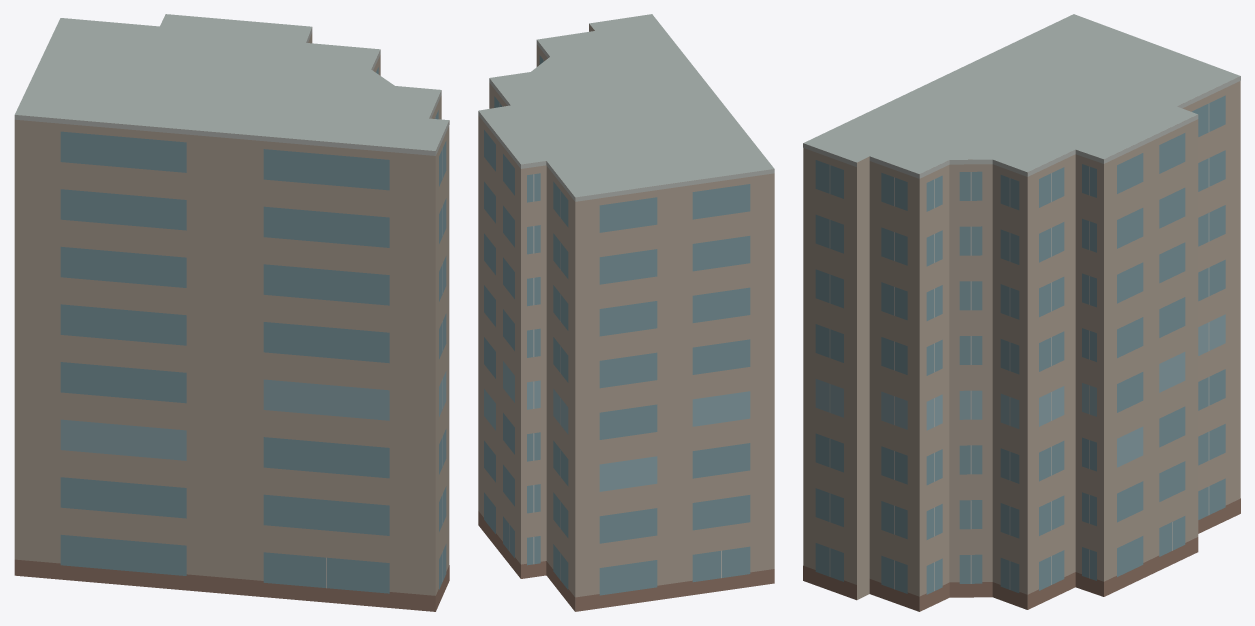
Rendered from survey-upis-32961090.glb.
The picture shows the model from 3 angles, left to right: view 1: azimuth 30°, elevation 25°; view 2: azimuth 150°, elevation 25°; view 3: azimuth 270°, elevation 25°; orthographic projection. The views are drawn at different scales.
Visible parts, largest first — view 1: survey-upis-32961090.tmp; view 2: survey-upis-32961090.tmp; view 3: survey-upis-32961090.tmp.
Boxes of the visible parts, x1=… form: survey-upis-32961090.tmp: x1=14, y1=14, x2=449, y2=611; survey-upis-32961090.tmp: x1=478, y1=14, x2=774, y2=611; survey-upis-32961090.tmp: x1=803, y1=14, x2=1240, y2=611.
Size of the model in its own units: 18.07 by 23 by 20.85.
